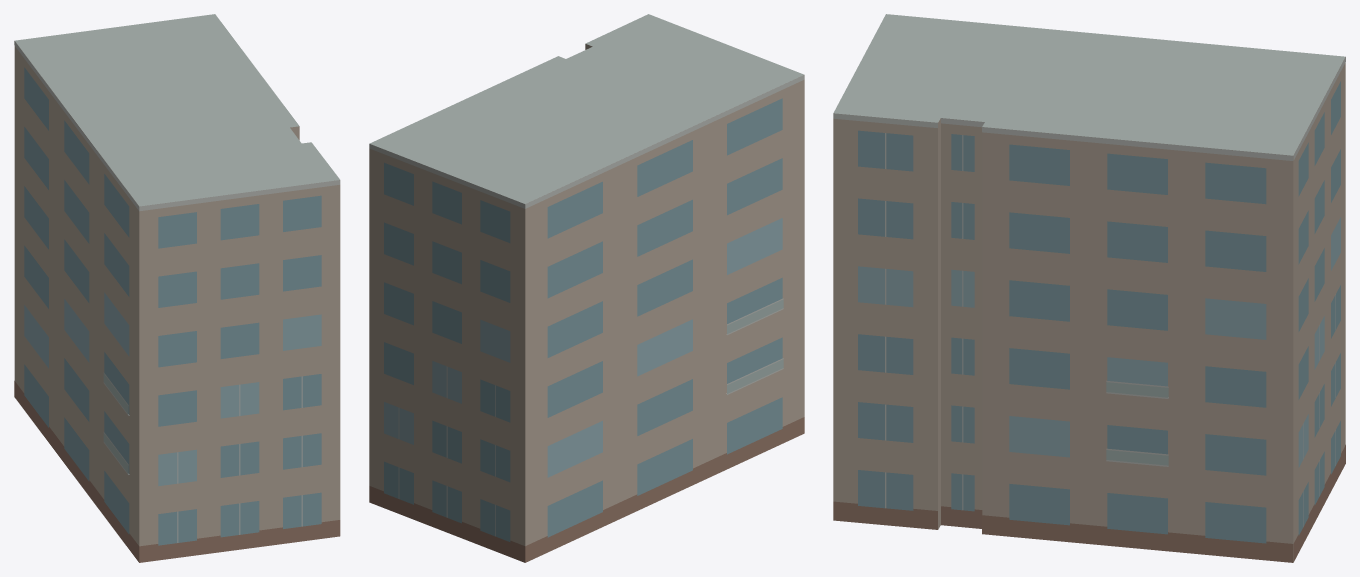
The model's file is survey-upis-32516480.glb.
3 renders of one model, left to right at view 1: azimuth 30°, elevation 25°; view 2: azimuth 150°, elevation 25°; view 3: azimuth 270°, elevation 25°, orthographic. The views are drawn at different scales.
Visible parts, largest first — view 1: survey-upis-32516480.tmp; view 2: survey-upis-32516480.tmp; view 3: survey-upis-32516480.tmp.
Boxes of the visible parts, x1=… form: survey-upis-32516480.tmp: x1=14, y1=14, x2=340, y2=562; survey-upis-32516480.tmp: x1=369, y1=14, x2=804, y2=562; survey-upis-32516480.tmp: x1=833, y1=14, x2=1345, y2=562.
Bounding box in the file's own units: 13.67 × 18.3 × 20.88.
